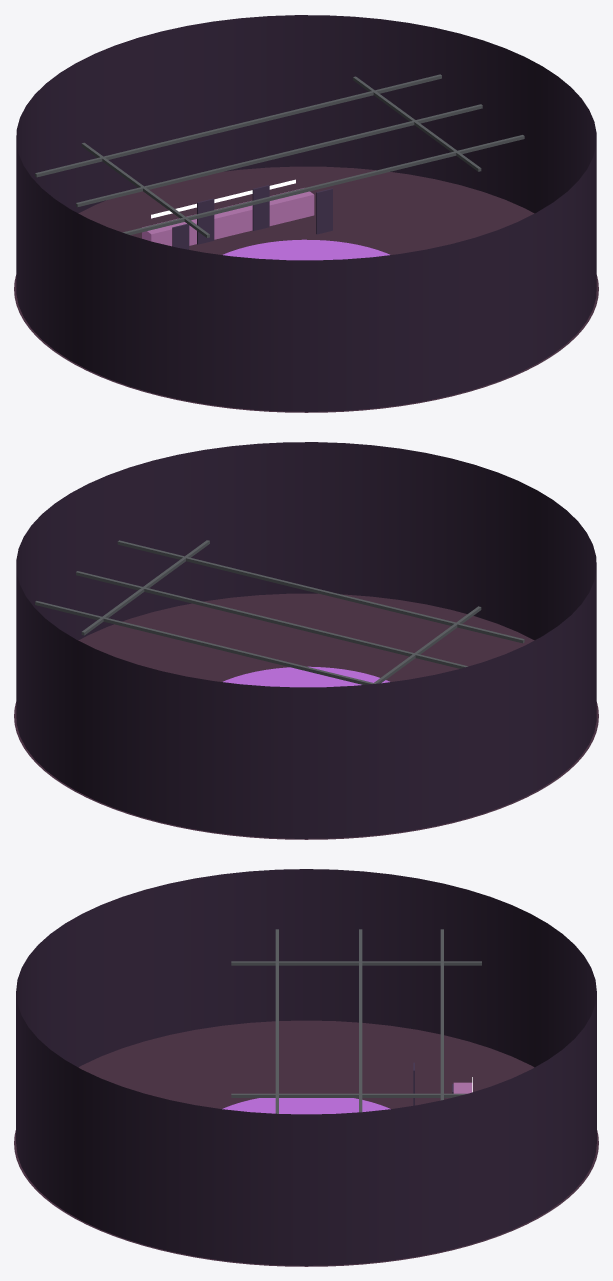
Rendered from club-venue.glb.
3 renders of one model, top to bottom at view 1: azimuth 30°, elevation 25°; view 2: azimuth 150°, elevation 25°; view 3: azimuth 270°, elevation 25°, orthographic.
Visible parts, largest first — view 1: venue_wall, venue_floor, venue_bar, venue_dancefloor, venue_truss_back, venue_truss_mid, venue_truss_front, venue_truss_right, venue_truss_left, venue_door_04, venue_door_03, venue_door_02; view 2: venue_wall, venue_floor, venue_dancefloor, venue_truss_front, venue_truss_mid, venue_truss_back, venue_truss_right, venue_truss_left; view 3: venue_wall, venue_floor, venue_dancefloor, venue_truss_left, venue_truss_right, venue_truss_front, venue_truss_mid, venue_truss_back.
Part boxes in pixels (bbox=[...]): venue_wall: bbox=[16, 15, 596, 411]; venue_floor: bbox=[14, 166, 598, 412]; venue_bar: bbox=[142, 188, 314, 246]; venue_dancefloor: bbox=[223, 239, 389, 260]; venue_truss_back: bbox=[35, 74, 441, 177]; venue_truss_mid: bbox=[76, 104, 482, 207]; venue_truss_front: bbox=[122, 135, 524, 235]; venue_truss_right: bbox=[353, 76, 481, 171]; venue_truss_left: bbox=[81, 142, 209, 237]; venue_door_04: bbox=[316, 188, 332, 234]; venue_door_03: bbox=[252, 185, 269, 230]; venue_door_02: bbox=[197, 198, 214, 244]; venue_wall: bbox=[16, 442, 596, 838]; venue_floor: bbox=[14, 593, 598, 839]; venue_dancefloor: bbox=[223, 666, 389, 687]; venue_truss_front: bbox=[117, 540, 524, 643]; venue_truss_mid: bbox=[76, 571, 467, 668]; venue_truss_back: bbox=[35, 601, 375, 684]; venue_truss_right: bbox=[81, 540, 209, 635]; venue_truss_left: bbox=[373, 606, 481, 683]; venue_wall: bbox=[16, 869, 596, 1265]; venue_floor: bbox=[14, 1020, 598, 1266]; venue_dancefloor: bbox=[222, 1098, 390, 1114]; venue_truss_left: bbox=[231, 961, 481, 965]; venue_truss_right: bbox=[231, 1093, 467, 1097]; venue_truss_front: bbox=[275, 929, 278, 1113]; venue_truss_mid: bbox=[359, 929, 362, 1112]; venue_truss_back: bbox=[440, 929, 443, 1100].
Size of the model in its own units: 28 by 8 by 28.
